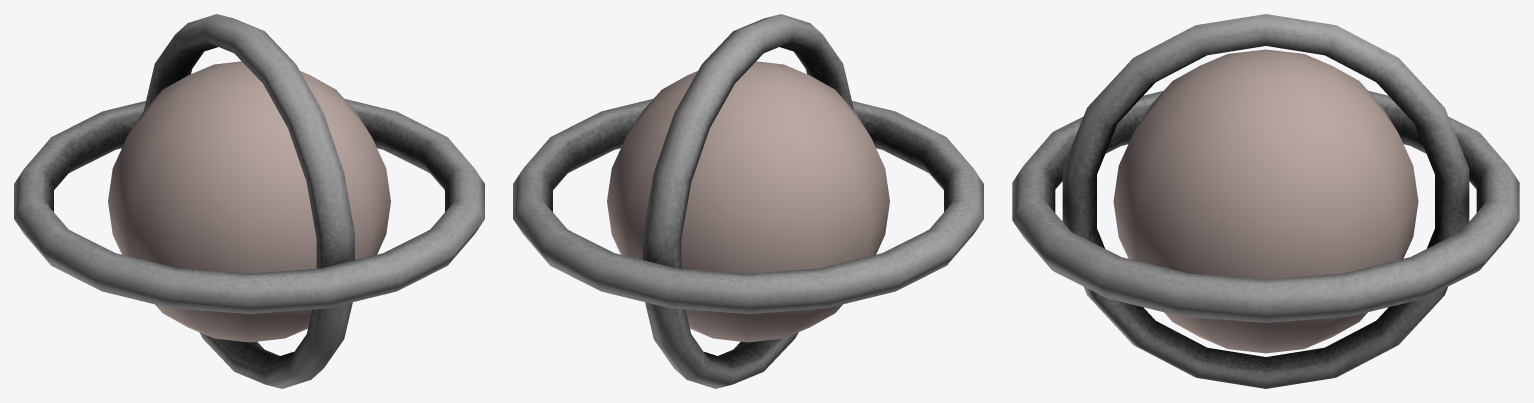
Rendered from datEnemy.fbx.
The picture shows the model from 3 angles, left to right: view 1: azimuth 30°, elevation 25°; view 2: azimuth 150°, elevation 25°; view 3: azimuth 270°, elevation 25°; orthographic projection. The views are drawn at different scales.
Visible parts, largest first — view 1: eye, ring2, ring1; view 2: eye, ring2, ring1; view 3: eye, ring1, ring2.
Part boxes in pixels (x1,y1,x2,y2): eye: (108, 61, 390, 342); ring2: (14, 98, 484, 313); ring1: (144, 14, 354, 388); eye: (607, 61, 889, 342); ring2: (513, 98, 983, 313); ring1: (643, 14, 853, 388); eye: (1113, 49, 1418, 353); ring1: (1062, 14, 1469, 388); ring2: (1012, 91, 1519, 322).
Bounding box in the file's own units: 3.09 × 2.48 × 3.04.
Materials: 2 (2 with a texture image).
